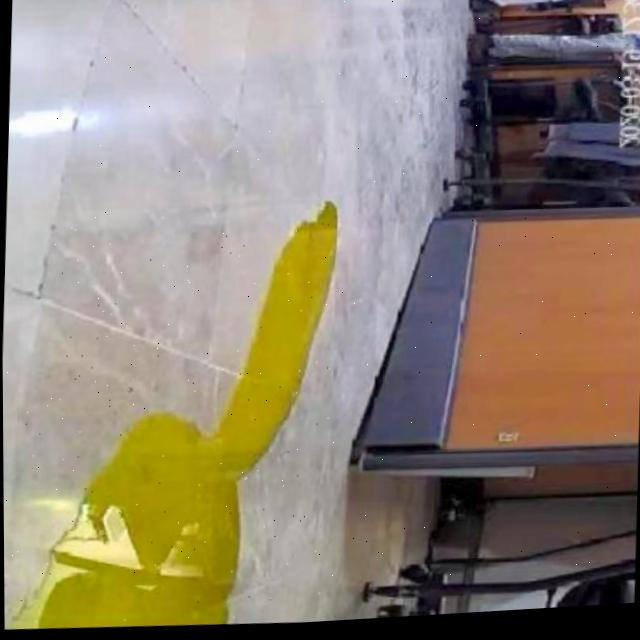spillage: (11, 208, 335, 629)
